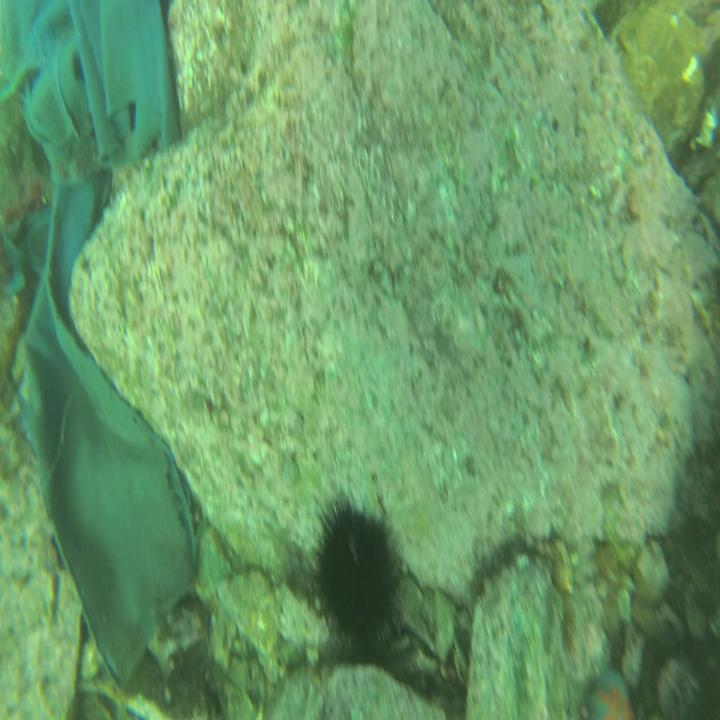echinus: (307, 494, 406, 666)
starfish: (583, 664, 638, 720)
